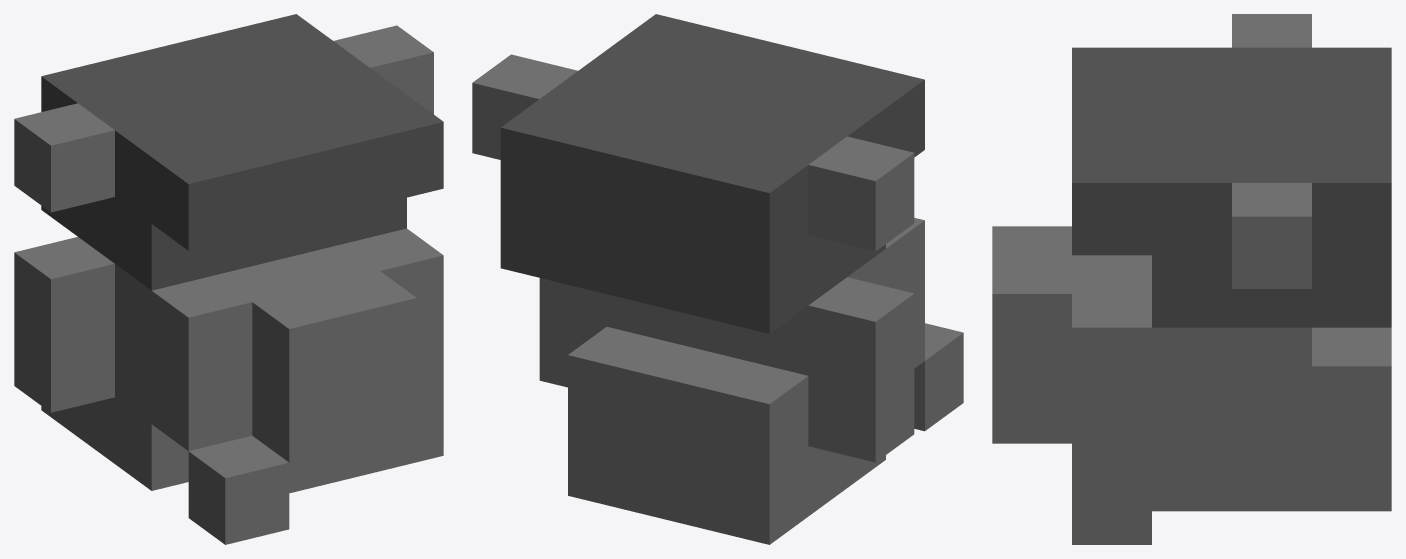
File: Golem body 2.obj
The picture shows the model from 3 angles, left to right: view 1: azimuth 30°, elevation 25°; view 2: azimuth 150°, elevation 25°; view 3: azimuth 270°, elevation 25°; orthographic projection. The views are drawn at different scales.
Bounding box in the file's own units: 6 × 5 × 5.
1 material, 1 textured.
